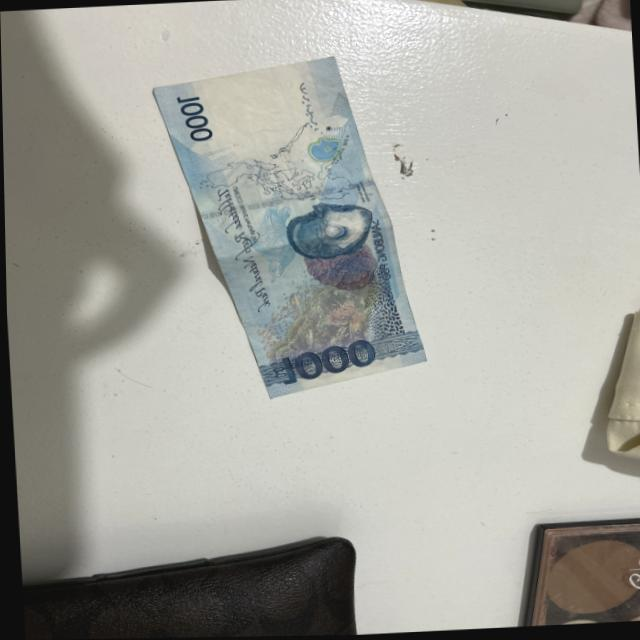1000_pearl: (281, 202, 376, 262)
1000_pearl_watermark: (303, 138, 343, 163)
value_watermark: (254, 76, 297, 96)
